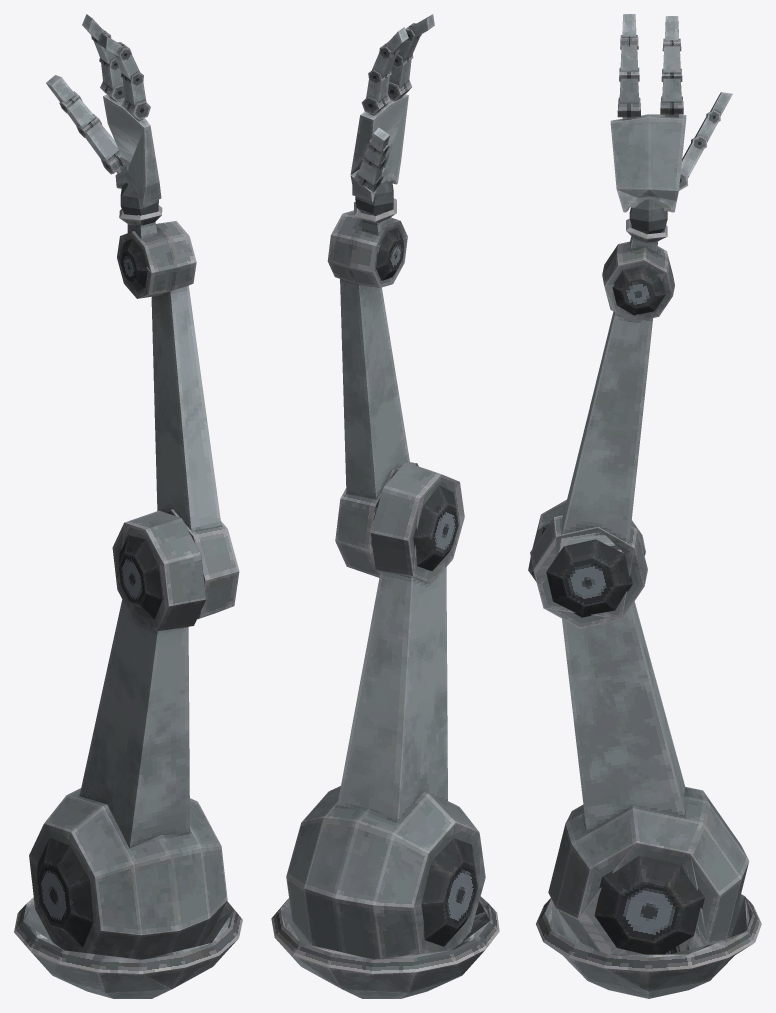
The model's file is item_robot_arm_left.glb.
3 views of the same model, side by side, from view 1: azimuth 30°, elevation 25°; view 2: azimuth 150°, elevation 25°; view 3: azimuth 270°, elevation 25° (orthographic).
Visible parts, largest first — view 1: Robot_Arm_Left; view 2: Robot_Arm_Left; view 3: Robot_Arm_Left.
Part boxes in pixels (x1=…): Robot_Arm_Left: x1=14, y1=14, x2=242, y2=998; Robot_Arm_Left: x1=271, y1=14, x2=499, y2=998; Robot_Arm_Left: x1=528, y1=14, x2=761, y2=998.
Bounding box in the file's own units: 0.2217 × 1.04 × 0.2292.
Materials: 1 (1 with a texture image).
